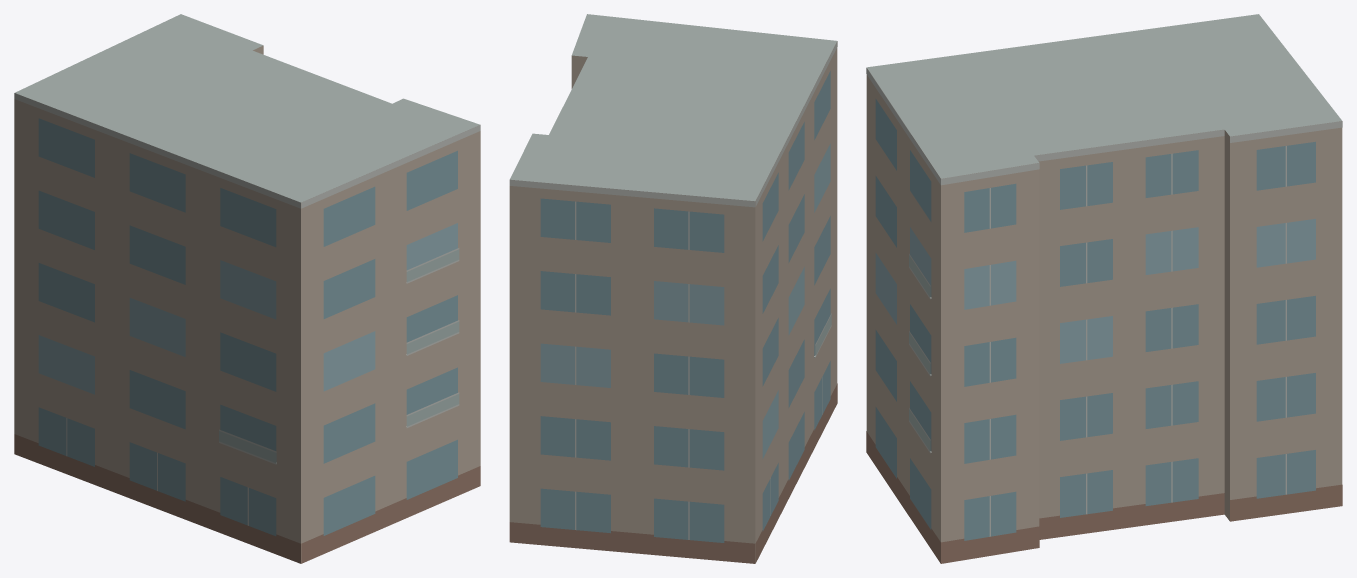
The model's file is survey-upis-32986786.glb.
3 views of the same model, side by side, from view 1: azimuth 30°, elevation 25°; view 2: azimuth 150°, elevation 25°; view 3: azimuth 270°, elevation 25° (orthographic). The views are drawn at different scales.
Parts seen in each view (by area): view 1: survey-upis-32986786.tmp; view 2: survey-upis-32986786.tmp; view 3: survey-upis-32986786.tmp.
Part boxes in pixels (x1,y1,x2,y2): survey-upis-32986786.tmp: (14, 14, 480, 563); survey-upis-32986786.tmp: (509, 14, 837, 563); survey-upis-32986786.tmp: (866, 14, 1342, 563).
Bounding box in the file's own units: 13.18 × 14.35 × 16.09.
